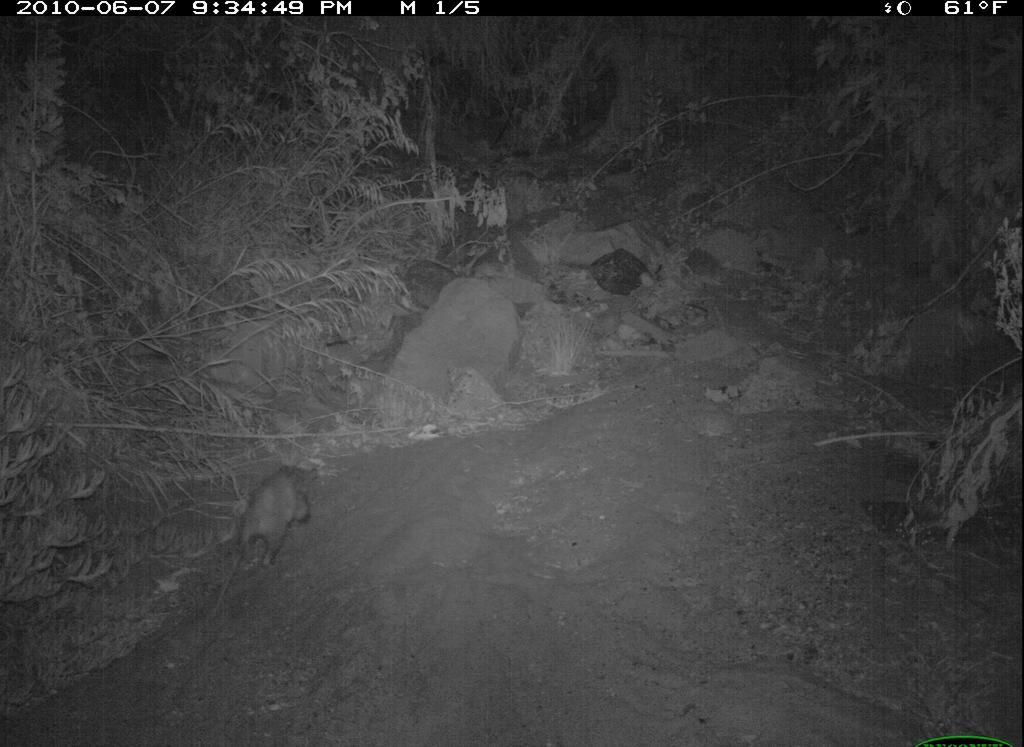opossum: (214, 456, 324, 597)
